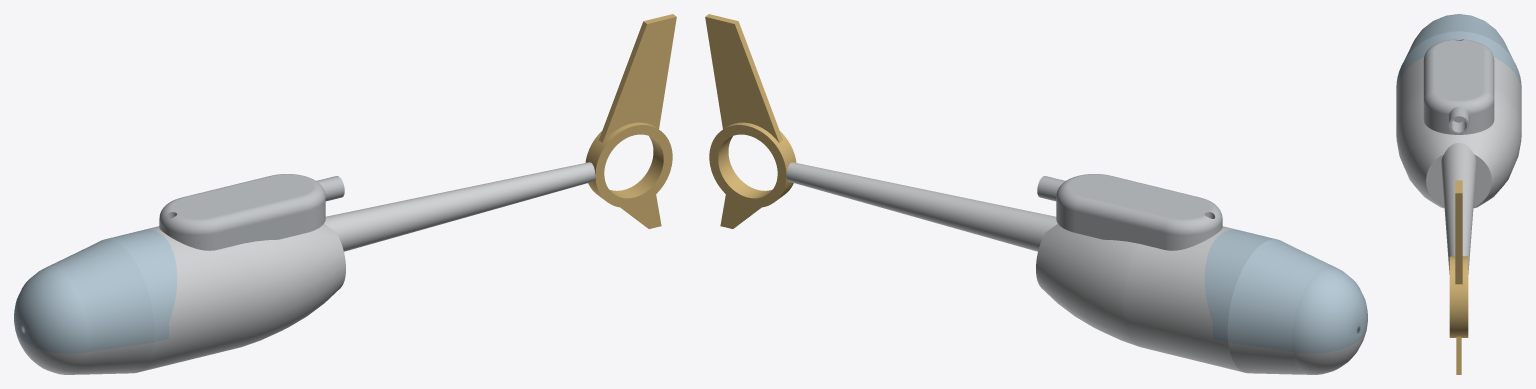
Rendered from step_47.glb.
3 renders of one model, left to right at view 1: azimuth 30°, elevation 25°; view 2: azimuth 150°, elevation 25°; view 3: azimuth 270°, elevation 25°, orthographic. The views are drawn at different scales.
Visible parts, largest first — view 1: part__fuselage, part__canopy glazing, part__engine cowling, part__fin and fan duct, part__tail boom; view 2: part__fuselage, part__canopy glazing, part__engine cowling, part__fin and fan duct, part__tail boom; view 3: part__fuselage, part__engine cowling, part__tail boom, part__canopy glazing, part__fin and fan duct.
Part boxes in pixels (x1,y1,x2,y2): part__fuselage: (16, 224, 345, 374); part__canopy glazing: (14, 229, 177, 353); part__engine cowling: (159, 174, 344, 250); part__fin and fan duct: (585, 14, 676, 228); part__tail boom: (324, 162, 595, 251); part__fuselage: (1036, 224, 1365, 374); part__canopy glazing: (1204, 229, 1367, 353); part__engine cowling: (1037, 174, 1222, 250); part__fin and fan duct: (705, 14, 796, 228); part__tail boom: (786, 162, 1057, 251); part__fuselage: (1396, 57, 1521, 208); part__engine cowling: (1423, 39, 1494, 134); part__tail boom: (1441, 143, 1476, 274); part__canopy glazing: (1396, 14, 1521, 90); part__fin and fan duct: (1449, 180, 1468, 374).
Bounding box in the file's own units: 8773 × 2800 × 1600.
